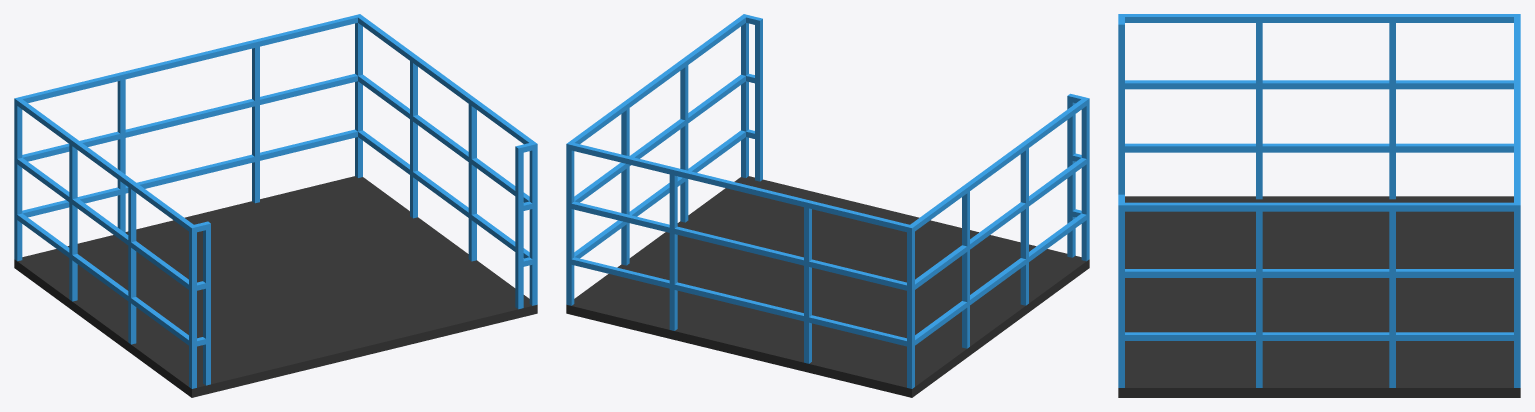
Rendered from Lift.fbx.
The picture shows the model from 3 angles, left to right: view 1: azimuth 30°, elevation 25°; view 2: azimuth 150°, elevation 25°; view 3: azimuth 270°, elevation 25°; orthographic projection. The views are drawn at different scales.
Visible parts, largest first — view 1: Side Lift Anim_22; view 2: Side Lift Anim_22; view 3: Side Lift Anim_22.
Boxes of the visible parts, left/top/right/bottom form: Side Lift Anim_22: left=14, top=14, right=537, bottom=397; Side Lift Anim_22: left=566, top=14, right=1089, bottom=397; Side Lift Anim_22: left=1118, top=14, right=1520, bottom=397.
Size of the model in its own units: 10630 by 4986 by 9449.
